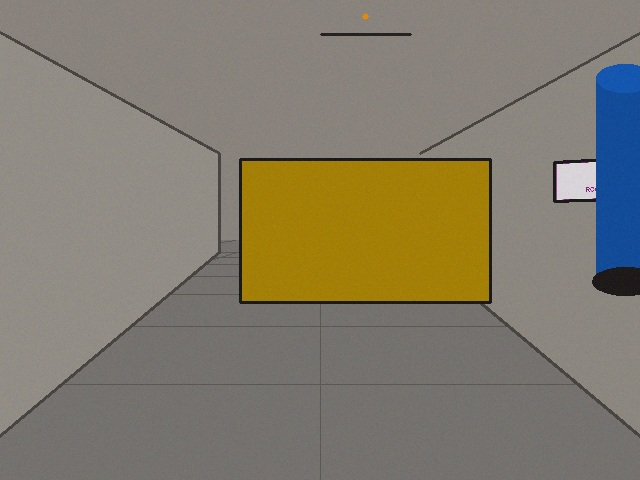directional_sign: (554, 157, 639, 201)
forklift: (240, 16, 490, 302)
person: (596, 78, 639, 281)
